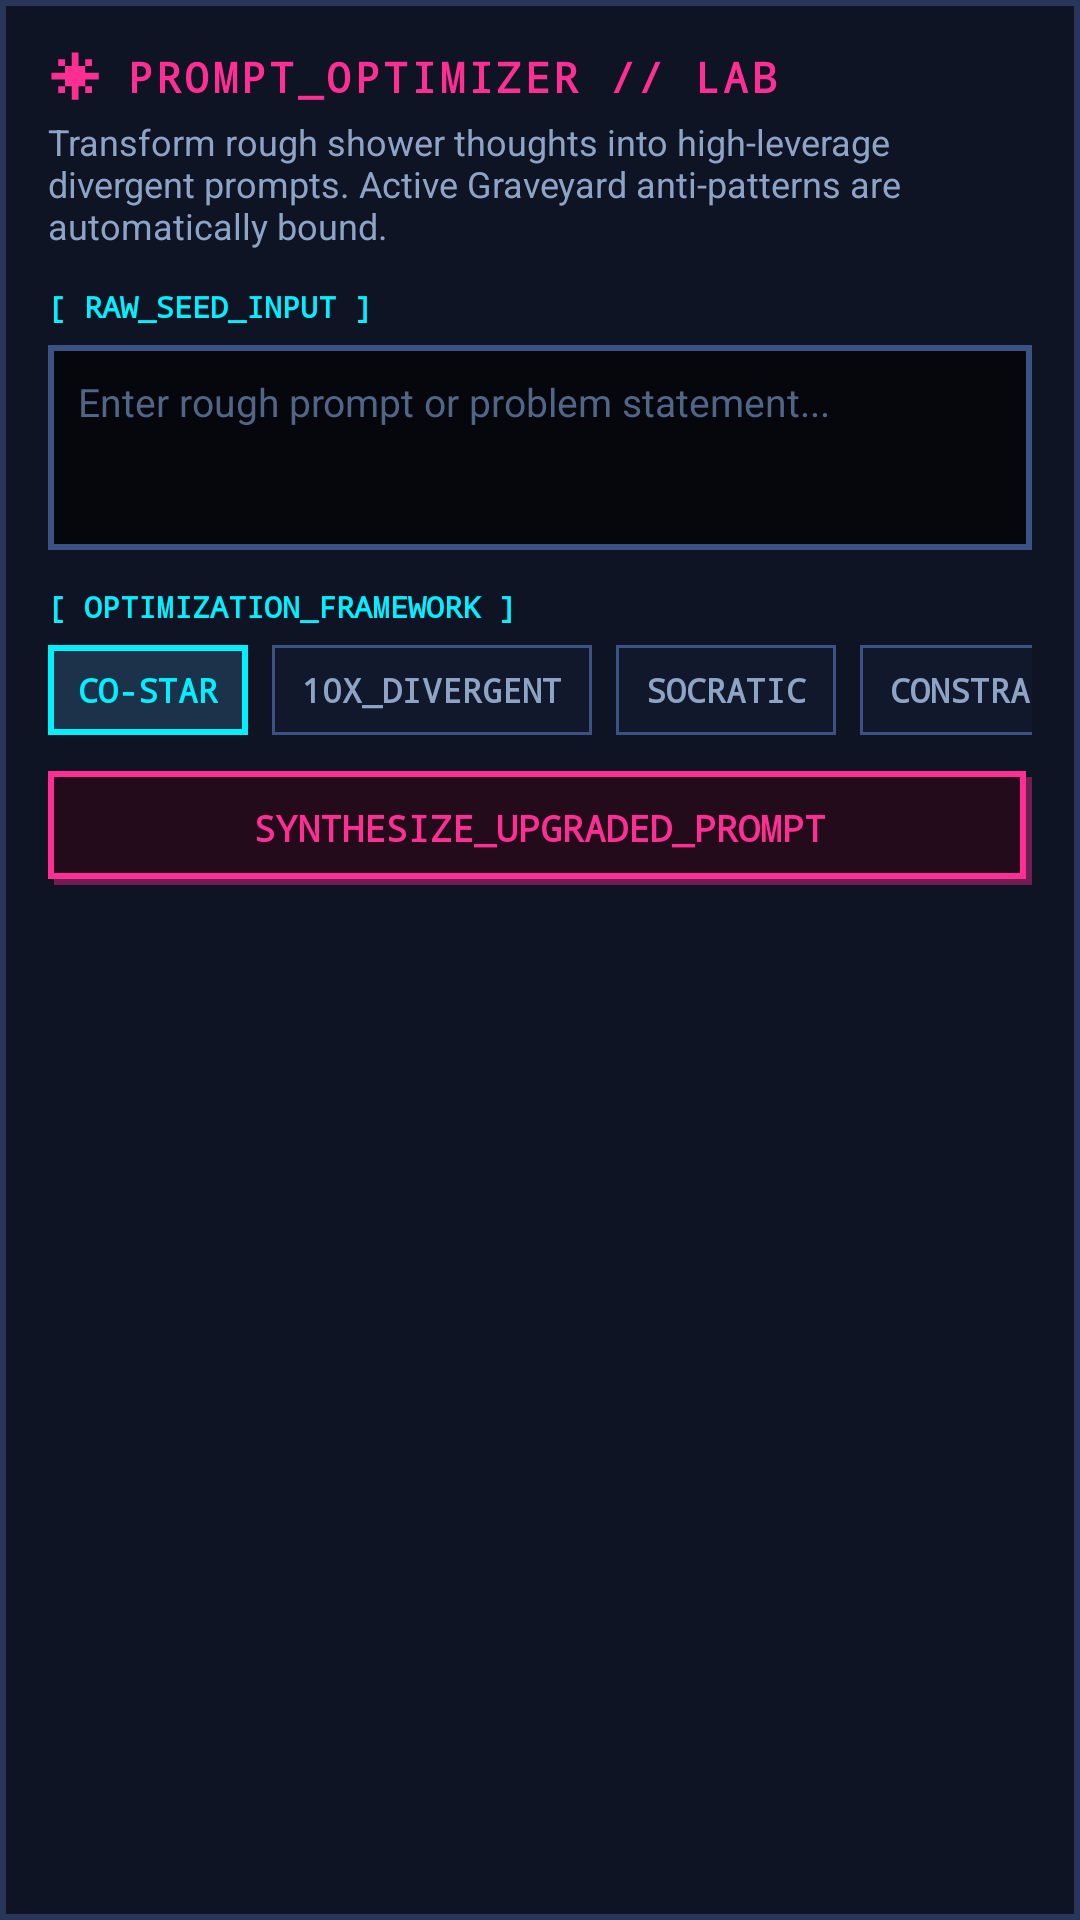

Icon click points for this 1080px x 1920px phone screenshot, format point (x, y):
spark: point (75, 76)
